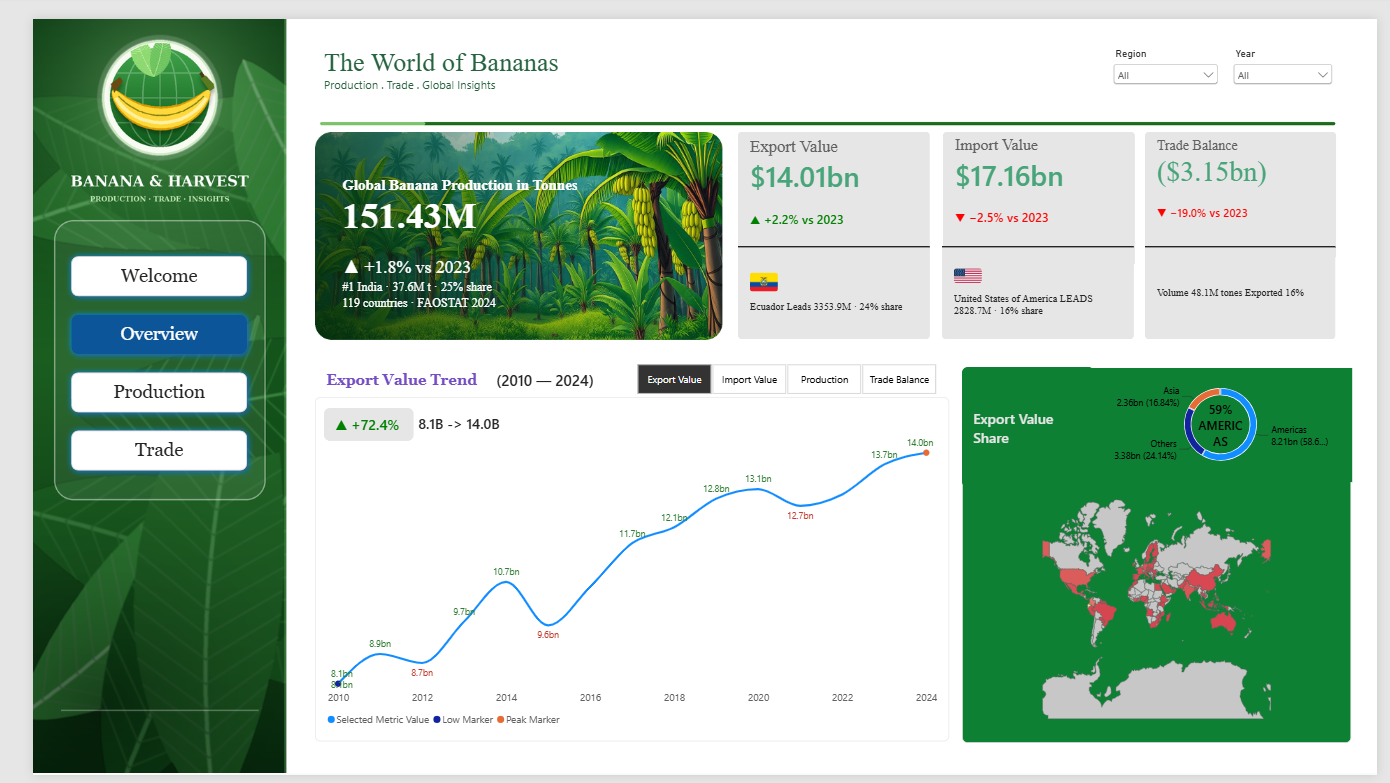

The dashboard page shown, as its layout file describes it:
{"tool":"powerbi","page":{"name":"Overview","canvas":[1920,1080],"ordinal":1},"visuals":[{"type":"group","id":"g1","title":"Group 1","box":[402.9,160.9,582.8,297.5],"z":0},{"type":"cardVisual","fields":{"Data":["All Measures.Export Value"]},"box":[1007.3,160.9,274.5,169],"z":1000},{"type":"cardVisual","fields":{"Data":["All Measures.Import Value"]},"box":[1299.4,160.9,274.5,189.3],"z":2000},{"type":"cardVisual","fields":{"Data":["All Measures.Trade Balance"]},"box":[1588.7,160.9,273.1,179.8],"z":3000},{"type":"image","box":[402.9,160.9,582.8,297.5],"z":3001,"group":"g1"},{"type":"cardVisual","fields":{"Data":["All Measures.total production"]},"box":[425.9,212.3,494.7,225.4],"z":3501,"group":"g1"},{"type":"cardVisual","fields":{"Data":["All Measures.Export Subtitle"]},"box":[1007.3,324.5,274.7,133.3],"z":4000},{"type":"cardVisual","fields":{"Data":["All Measures.Import Subtitle"]},"box":[1299.1,324.8,274.3,133.7],"z":5000},{"type":"cardVisual","fields":{"Data":["All Measures.Trade Subtitle"]},"box":[1588.4,324.8,272.9,133.7],"z":6000},{"type":"lineChart","fields":{"Category":["year.Year"],"Y":["All Measures.Selected Metric Value","All Measures.Low Marker","All Measures.Peak Marker"]},"box":[402.6,540,906.3,491.5],"z":7000},{"type":"slicer","fields":{"Values":["Metric Selector.Metric"]},"box":[843,491.5,466.5,46],"z":8000},{"type":"cardVisual","fields":{"Data":["All Measures.Trend start to end"]},"box":[533.7,549.7,206,52.5],"z":9000},{"type":"cardVisual","fields":{"Data":["All Measures.Trend Change % Label"]},"box":[415.1,556,128.6,47.3],"z":10000},{"type":"cardVisual","fields":{"Data":["All Measures.mstric seleccction"]},"box":[402.9,493.5,311,46],"z":11000},{"type":"cardVisual","fields":{"Data":["All Measures.Trend Period Label"]},"box":[645.5,494,175.1,41.7],"z":12000},{"type":"slicer","fields":{"Values":["year.Year"]},"box":[1709.9,40.9,150.8,76.8],"z":13000},{"type":"shapeMap","fields":{"Category":["country.name"],"Value":["All Measures.Selected Metric Value"]},"box":[1327.8,654.5,556.2,379.8],"z":14000},{"type":"donutChart","fields":{"Category":["country.Region Group"],"Y":["All Measures.Selected Metric Value"]},"box":[1507.9,498.1,375.7,162.9],"z":15000},{"type":"cardVisual","fields":{"Data":["All Measures.sharing across region"]},"box":[1327.8,496.9,189.9,172.4],"z":16000},{"type":"textbox","box":[415.1,40.3,461.3,100],"z":17000},{"type":"slicer","fields":{"Values":["country.region"]},"box":[1537.9,40.9,158.7,71.1],"z":18000},{"type":"pageNavigator","box":[45.4,329.6,269.1,325],"z":19000}]}

Visuals, with their boxes in screenshot pixels (x1, y1, x2, y2), scaled from the page's 1920x1080 canvas onto the 1390x783 screenshot:
"Group 1" group: [292,117,714,332]
cardVisual - All Measures.Export Value: [729,117,928,239]
cardVisual - All Measures.Import Value: [941,117,1139,254]
cardVisual - All Measures.Trade Balance: [1150,117,1348,247]
image: [292,117,714,332]
cardVisual - All Measures.total production: [308,154,666,317]
cardVisual - All Measures.Export Subtitle: [729,235,928,332]
cardVisual - All Measures.Import Subtitle: [940,235,1139,332]
cardVisual - All Measures.Trade Subtitle: [1150,235,1348,332]
lineChart - year.Year x All Measures.Selected Metric Value: [291,392,948,748]
slicer - Metric Selector.Metric: [610,356,948,390]
cardVisual - All Measures.Trend start to end: [386,399,536,437]
cardVisual - All Measures.Trend Change % Label: [301,403,394,437]
cardVisual - All Measures.mstric seleccction: [292,358,517,391]
cardVisual - All Measures.Trend Period Label: [467,358,594,388]
slicer - year.Year: [1238,30,1347,85]
shapeMap - country.name x All Measures.Selected Metric Value: [961,475,1364,750]
donutChart - country.Region Group x All Measures.Selected Metric Value: [1092,361,1364,479]
cardVisual - All Measures.sharing across region: [961,360,1099,485]
textbox: [301,29,634,102]
slicer - country.region: [1113,30,1228,81]
pageNavigator: [33,239,228,475]
